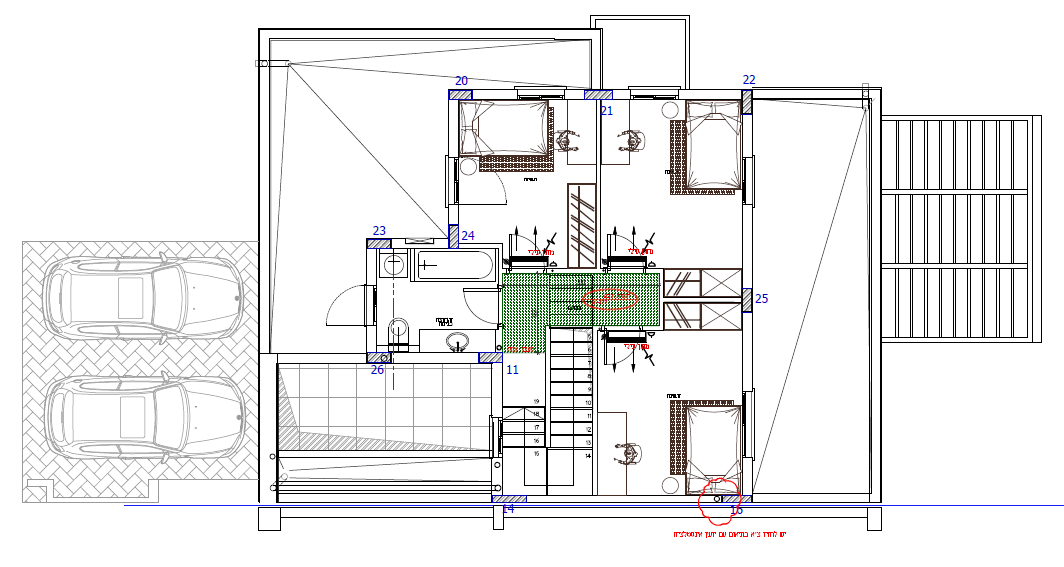door: (323, 284, 366, 330), (458, 285, 499, 328)
